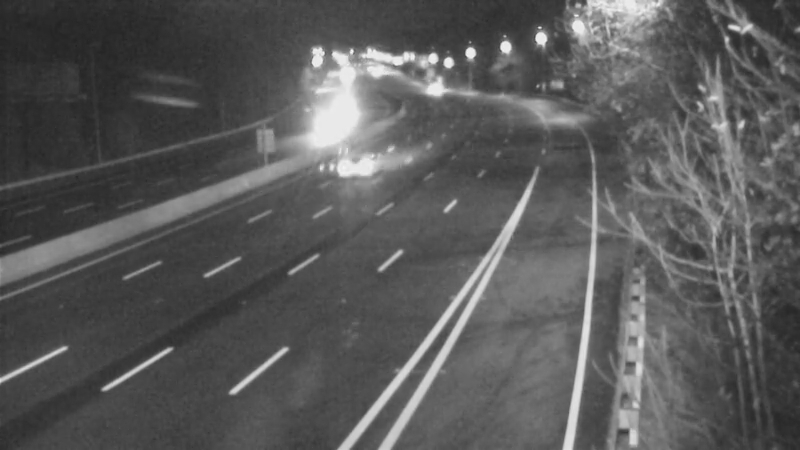vehicle: (318, 127, 398, 207), (405, 59, 455, 109), (310, 102, 360, 152)
